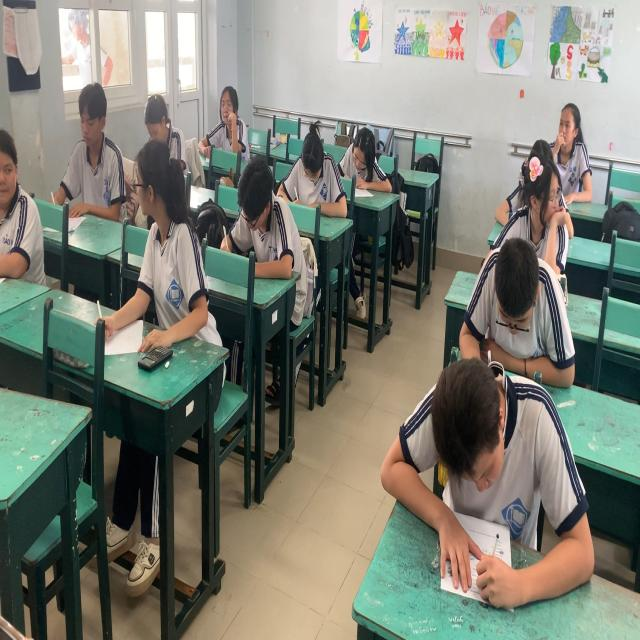cheating: (125, 142, 193, 319), (518, 160, 566, 246), (0, 112, 28, 222)
not_cheating: (403, 350, 557, 578), (481, 243, 563, 374), (220, 143, 289, 294), (65, 77, 116, 174), (287, 122, 339, 202), (344, 114, 394, 180), (210, 87, 250, 139), (542, 98, 575, 160), (139, 94, 174, 139)
